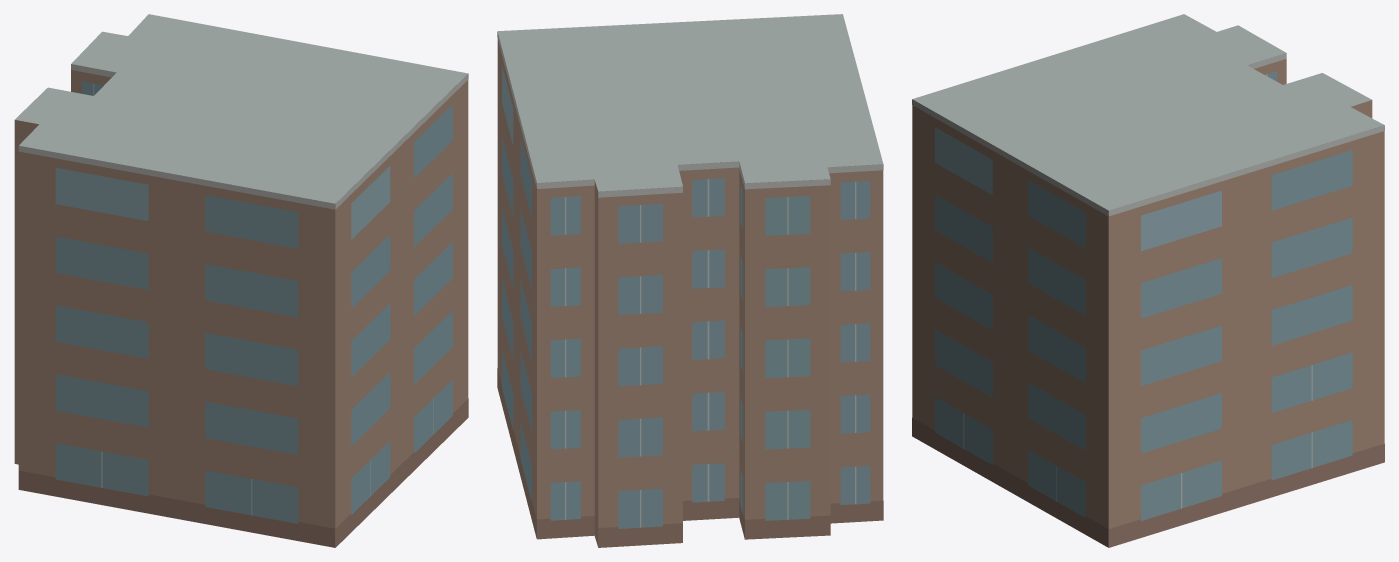
Rendered from survey-upis-32973790.glb.
3 views of the same model, side by side, from view 1: azimuth 30°, elevation 25°; view 2: azimuth 150°, elevation 25°; view 3: azimuth 270°, elevation 25° (orthographic). The views are drawn at different scales.
Visible parts, largest first — view 1: survey-upis-32973790.tmp; view 2: survey-upis-32973790.tmp; view 3: survey-upis-32973790.tmp.
Part boxes in pixels (x1=…): survey-upis-32973790.tmp: x1=14, y1=14, x2=468, y2=547; survey-upis-32973790.tmp: x1=497, y1=14, x2=883, y2=547; survey-upis-32973790.tmp: x1=912, y1=14, x2=1384, y2=547.
Bounding box in the file's own units: 17.77 × 14.2 × 18.04.
